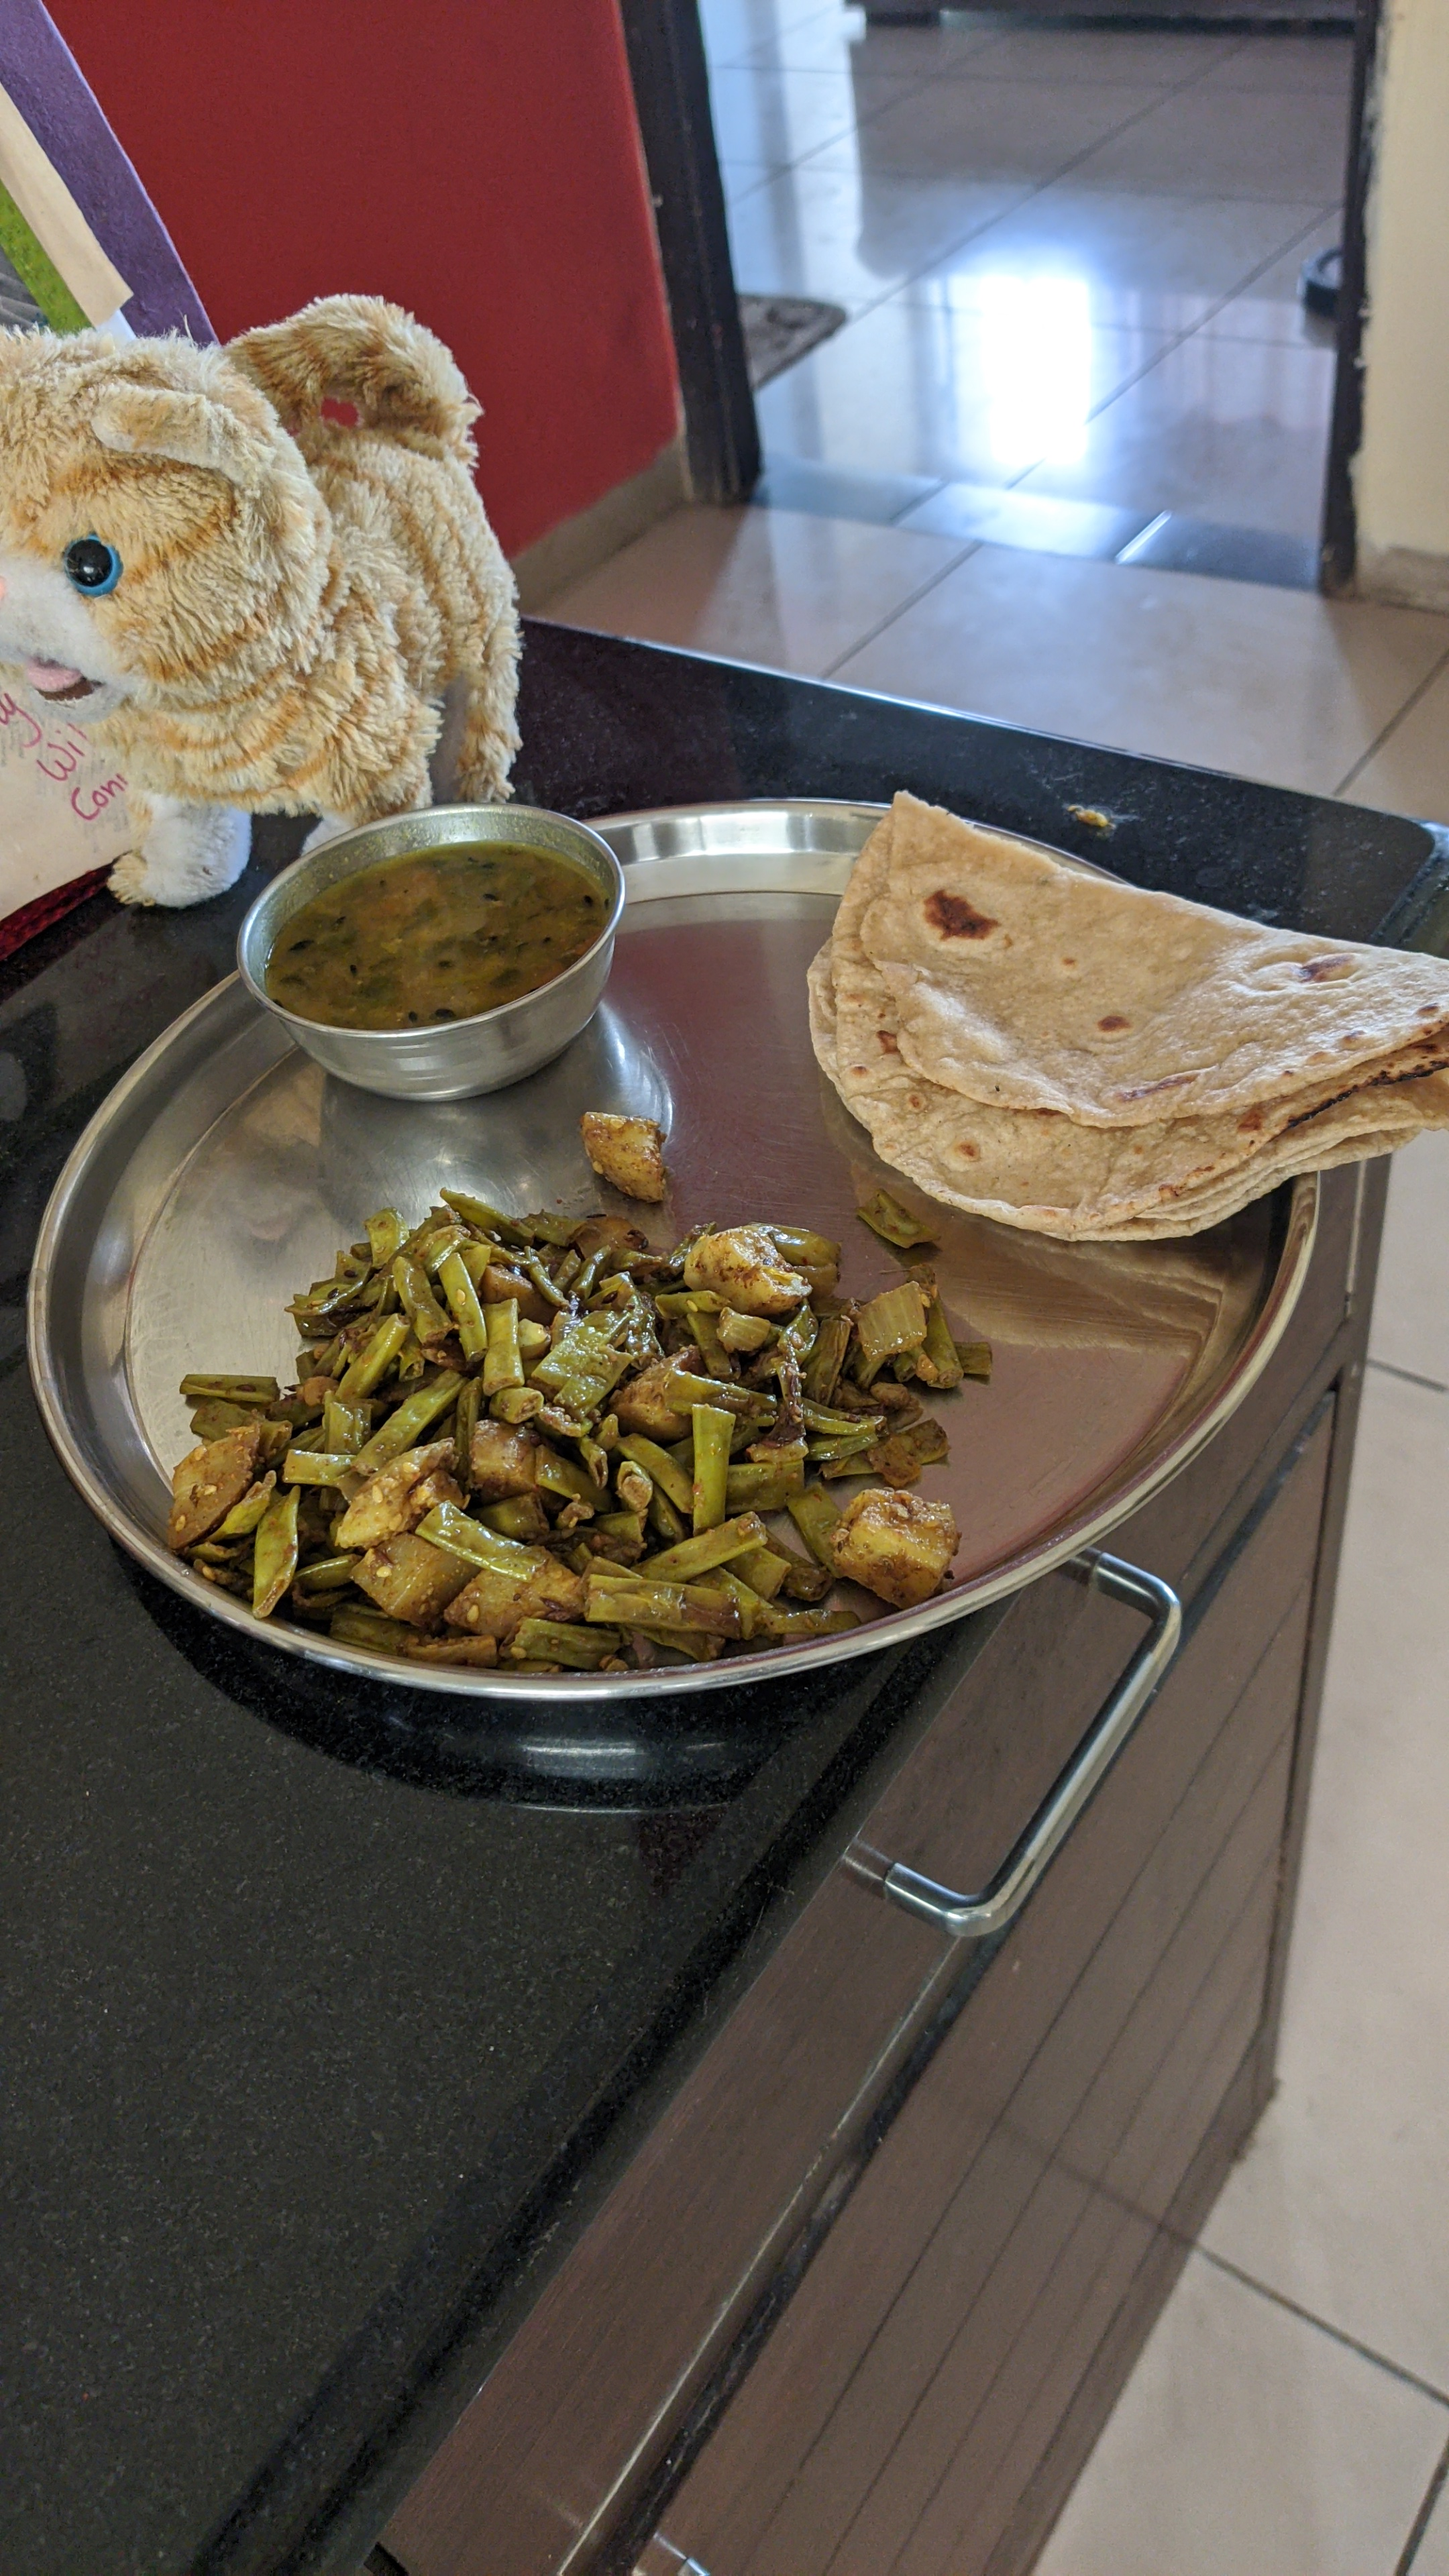food: (152, 782, 1449, 1683)
